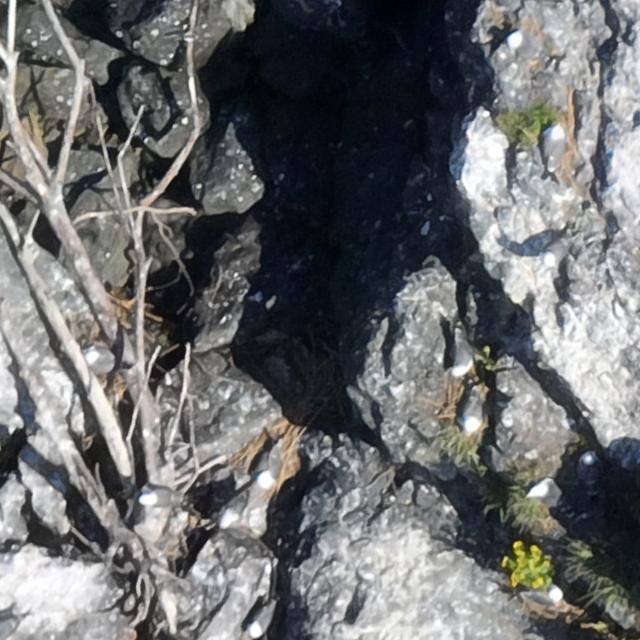umineko: (485, 28, 524, 78), (258, 432, 288, 488), (215, 487, 255, 528), (136, 486, 189, 514), (240, 599, 281, 635), (544, 127, 564, 164), (86, 347, 115, 372), (462, 395, 482, 431), (453, 338, 471, 374), (528, 586, 562, 604), (542, 240, 567, 262), (0, 616, 16, 640)
